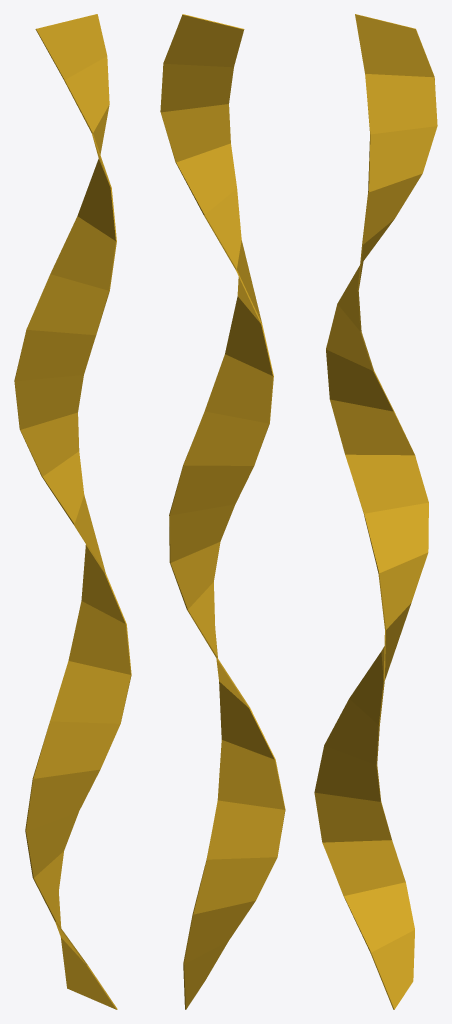
Rendered from party_streamer_yellow.glb.
3 renders of one model, left to right at view 1: azimuth 30°, elevation 25°; view 2: azimuth 150°, elevation 25°; view 3: azimuth 330°, elevation 25°, orthographic.
Visible parts, largest first — view 1: party_streamer_yellow_body; view 2: party_streamer_yellow_body; view 3: party_streamer_yellow_body.
Boxes of the visible parts, <box> form: party_streamer_yellow_body: <box>14,14,131,1009</box>; party_streamer_yellow_body: <box>160,14,285,1009</box>; party_streamer_yellow_body: <box>314,14,437,1009</box>.
Bounding box in the file's own units: 0.0781 × 0.7001 × 0.07.
1 material, 1 textured.
